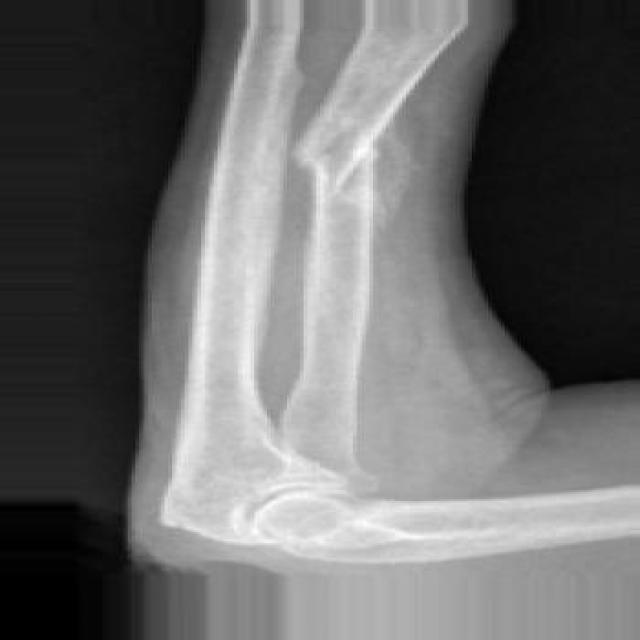Fracture: (298, 130, 406, 205)
